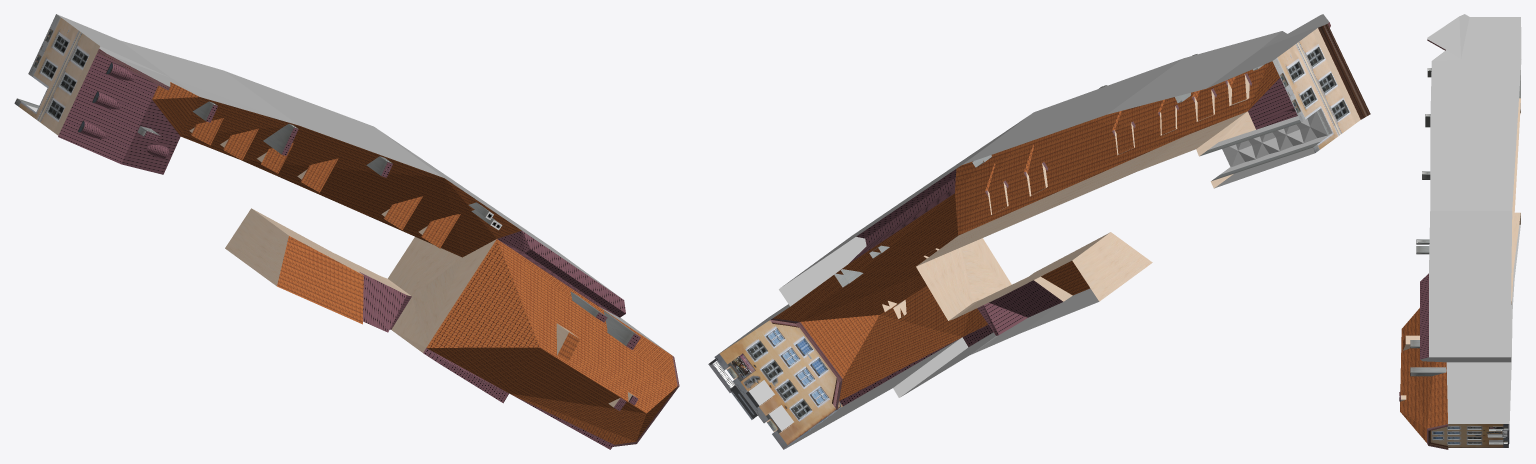
Rendered from Pikk29+Lai24.obj.
3 renders of one model, left to right at view 1: azimuth 30°, elevation 25°; view 2: azimuth 150°, elevation 25°; view 3: azimuth 270°, elevation 25°, orthographic. The views are drawn at different scales.
Parts seen in each view (by area): view 1: Pikk29_Lai24; view 2: Pikk29_Lai24; view 3: Pikk29_Lai24.
Boxes of the visible parts, x1,y1,x2,y2 form: Pikk29_Lai24: (14, 14, 679, 449); Pikk29_Lai24: (708, 14, 1370, 449); Pikk29_Lai24: (1399, 14, 1521, 449).
Size of the model in its own units: 67.16 by 53.93 by 20.15.
